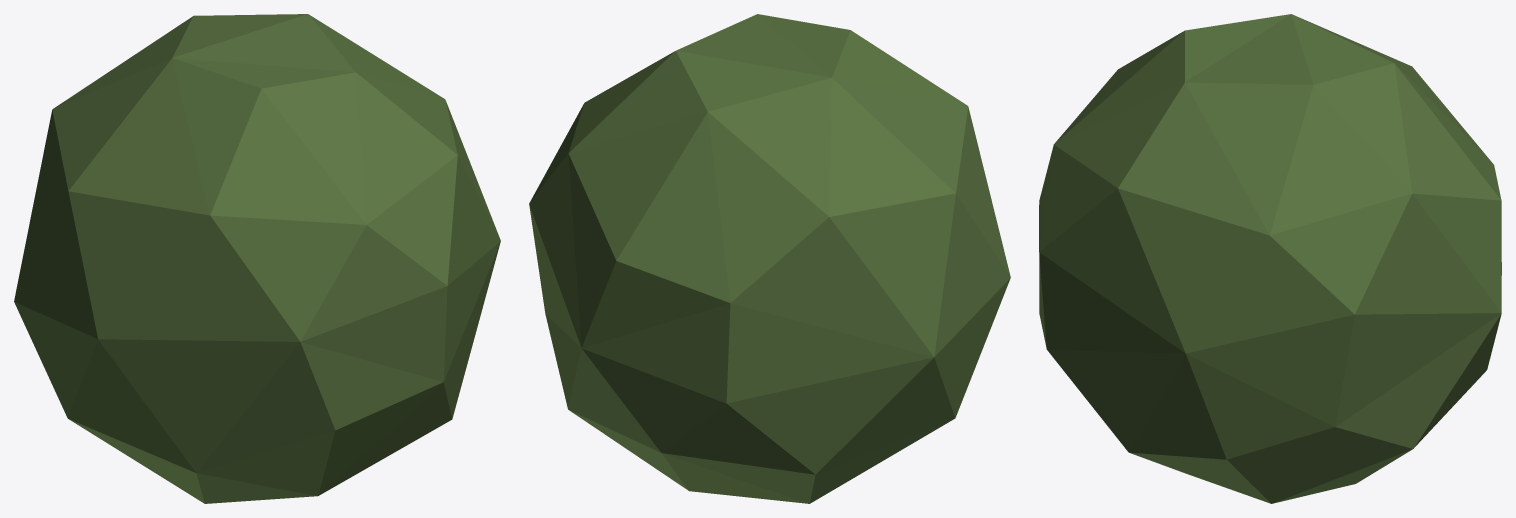
The model's file is shrub_01.fbx.
The picture shows the model from 3 angles, left to right: view 1: azimuth 30°, elevation 25°; view 2: azimuth 150°, elevation 25°; view 3: azimuth 270°, elevation 25°; orthographic projection.
Parts seen in each view (by area): view 1: shrub_01; view 2: shrub_01; view 3: shrub_01.
Boxes of the visible parts, x1,y1,x2,y2 form: shrub_01: [14, 14, 500, 503]; shrub_01: [529, 14, 1010, 503]; shrub_01: [1039, 14, 1501, 503].
Bounding box in the file's own units: 167 × 167 × 168.
